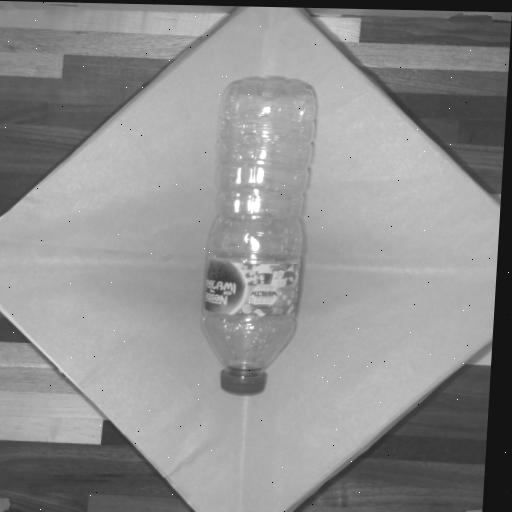bottle: (203, 79, 315, 393)
